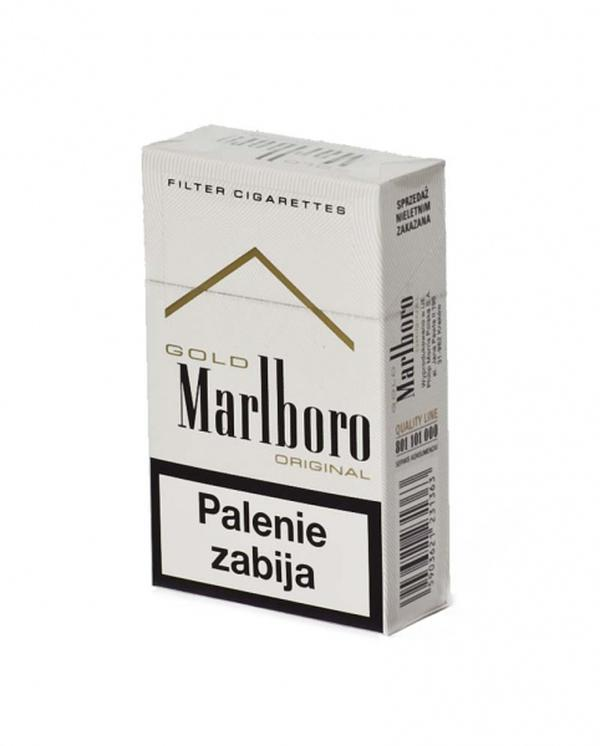marlboro_gold: (149, 175, 384, 584)
